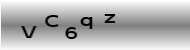6: (64, 26, 77, 40)
C: (44, 14, 59, 28)
V: (20, 25, 37, 38)
q: (80, 16, 93, 29)
z: (104, 13, 117, 25)
